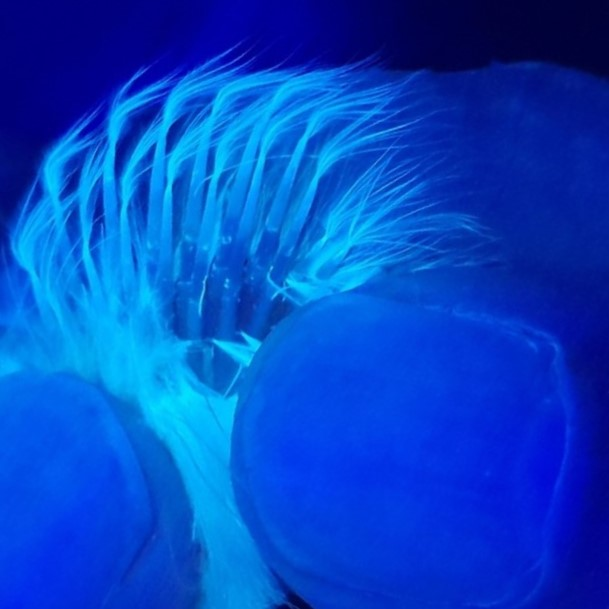female: (23, 94, 358, 379)
